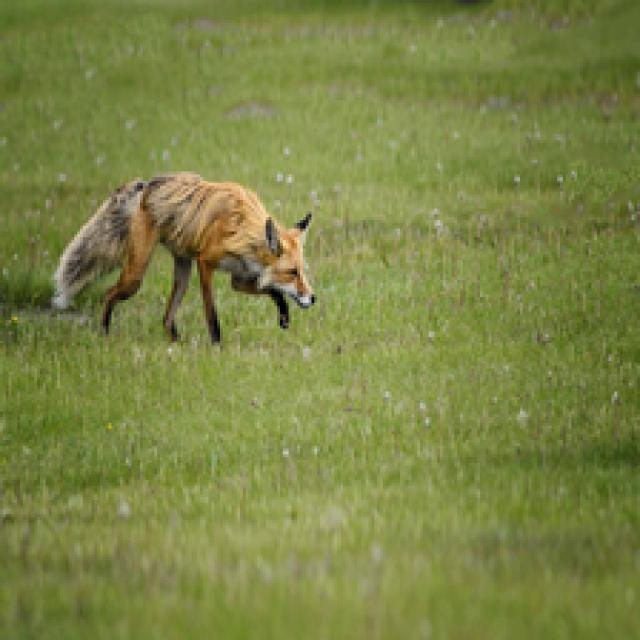fox: (42, 150, 318, 348)
